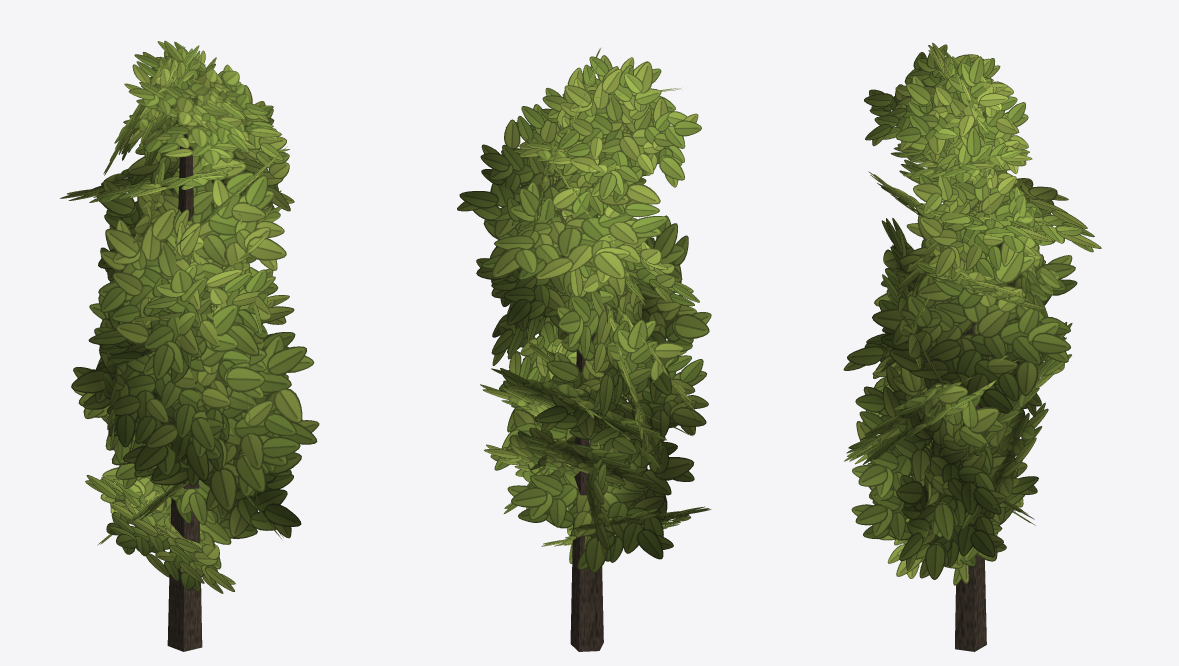
The model's file is pioppo_1_leggero.glb.
3 views of the same model, side by side, from view 1: azimuth 30°, elevation 25°; view 2: azimuth 150°, elevation 25°; view 3: azimuth 270°, elevation 25° (orthographic). The views are drawn at different scales.
Parts seen in each view (by area): view 1: pioppo_1_leggero; view 2: pioppo_1_leggero; view 3: pioppo_1_leggero.
Boxes of the visible parts, x1,y1,x2,y2 form: pioppo_1_leggero: (60,40,319,651); pioppo_1_leggero: (457,47,711,651); pioppo_1_leggero: (843,42,1101,651).
Size of the model in its own units: 8.74 by 17.42 by 9.57.
2 materials, 2 textured.
